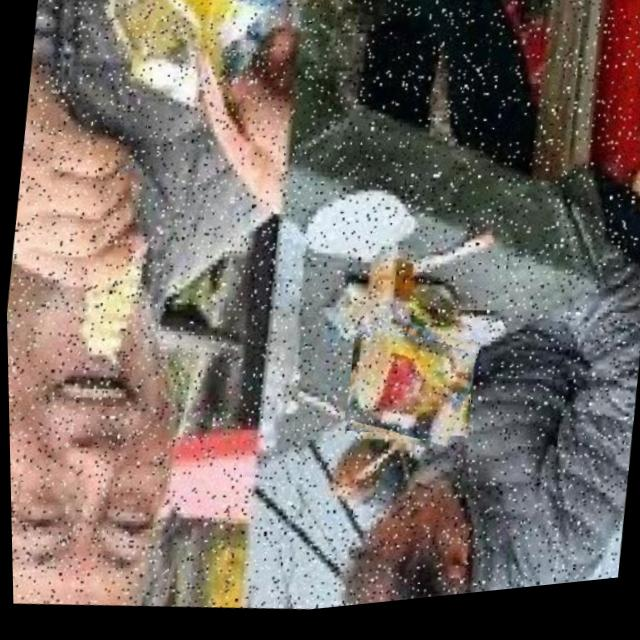Miscellaneous: (339, 321, 476, 466)
